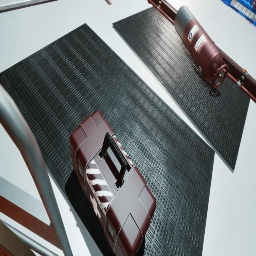FireExtinguisher ]: (250, 0, 256, 9)
FirstAidBox ,: (69, 110, 156, 256)
NitrogenTank ,: (174, 5, 229, 88)
